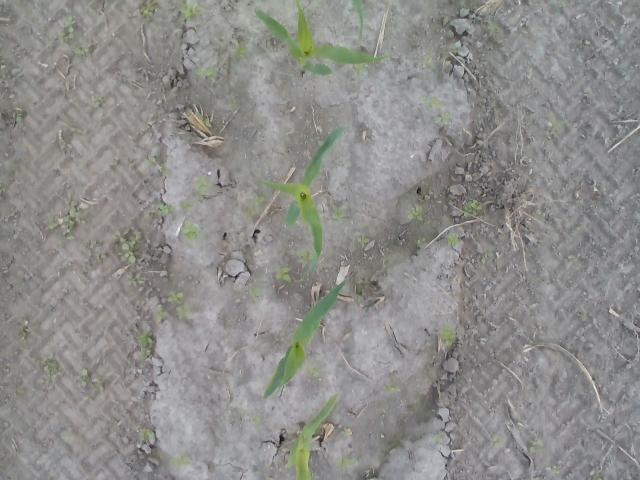Maize: (256, 126, 342, 273), (253, 0, 391, 77), (260, 280, 346, 401), (286, 393, 340, 480)
Weeds: (112, 228, 144, 266), (58, 198, 80, 248), (422, 94, 454, 125), (232, 195, 266, 222), (166, 290, 194, 320), (34, 354, 62, 380), (136, 328, 156, 360), (180, 219, 208, 241), (58, 14, 80, 42), (191, 174, 212, 202), (143, 154, 167, 176), (351, 222, 371, 248), (294, 249, 310, 281), (436, 322, 456, 346), (270, 262, 292, 283), (335, 454, 358, 474), (178, 1, 200, 20), (170, 454, 192, 473), (192, 64, 218, 80), (140, 0, 158, 21), (546, 112, 568, 129), (464, 198, 482, 218), (230, 38, 247, 58), (126, 272, 146, 288), (420, 48, 432, 72), (406, 206, 424, 221), (480, 245, 495, 263), (489, 432, 504, 449), (152, 307, 168, 322), (138, 428, 156, 441), (528, 440, 545, 453), (78, 367, 90, 385), (158, 202, 176, 214), (70, 44, 88, 56), (226, 96, 241, 110), (178, 198, 194, 210), (248, 286, 264, 298), (195, 112, 209, 125), (331, 207, 345, 220), (382, 384, 400, 394), (545, 464, 560, 476), (17, 324, 28, 340), (446, 234, 459, 247), (306, 366, 320, 378), (352, 62, 366, 74), (486, 24, 500, 34), (252, 415, 264, 426), (414, 238, 427, 248), (94, 254, 106, 264), (576, 40, 591, 48), (590, 471, 603, 480), (14, 112, 24, 122), (96, 96, 104, 107), (559, 0, 569, 8), (337, 429, 347, 437), (0, 183, 6, 194), (48, 223, 54, 232), (449, 48, 458, 54)
